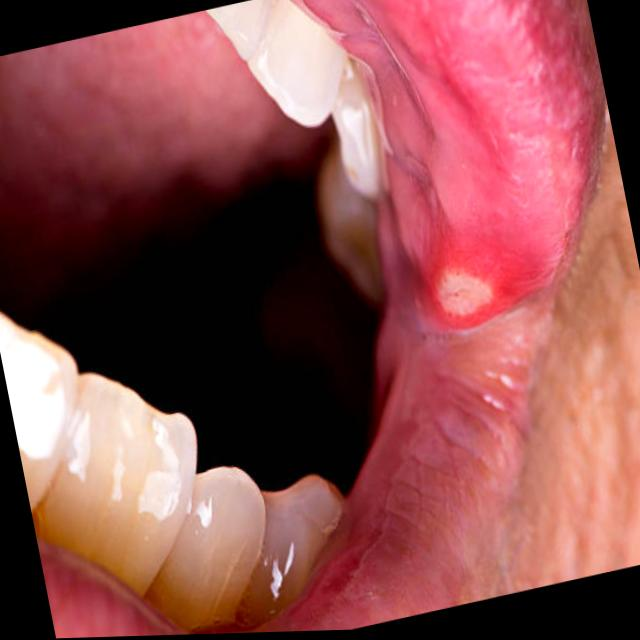ulcer: (436, 270, 490, 317)
